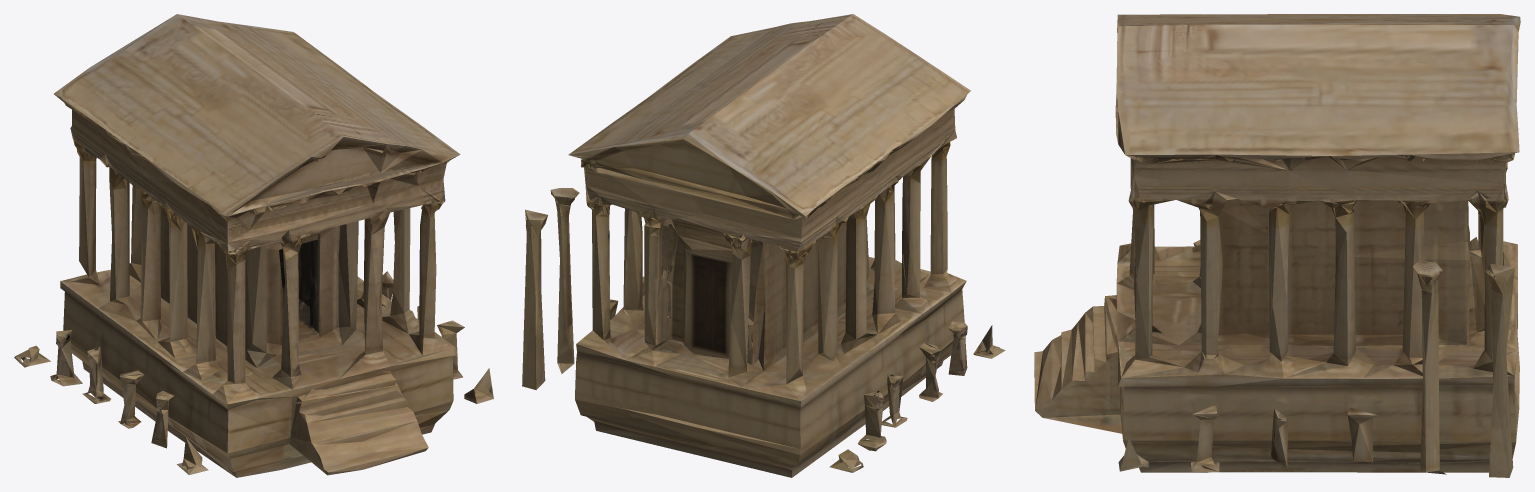
File: Ancient_Temple_Model_0418162108_texture.fbx
The picture shows the model from 3 angles, left to right: view 1: azimuth 30°, elevation 25°; view 2: azimuth 150°, elevation 25°; view 3: azimuth 270°, elevation 25°; orthographic projection. The views are drawn at different scales.
Parts seen in each view (by area): view 1: temp; view 2: temp; view 3: temp.
Part boxes in pixels (x1,y1,x2,y2): temp: (14,14,493,477); temp: (522,14,1005,477); temp: (1034,14,1520,477).
Size of the model in its own units: 191 by 176 by 198.
1 material, 1 textured.
